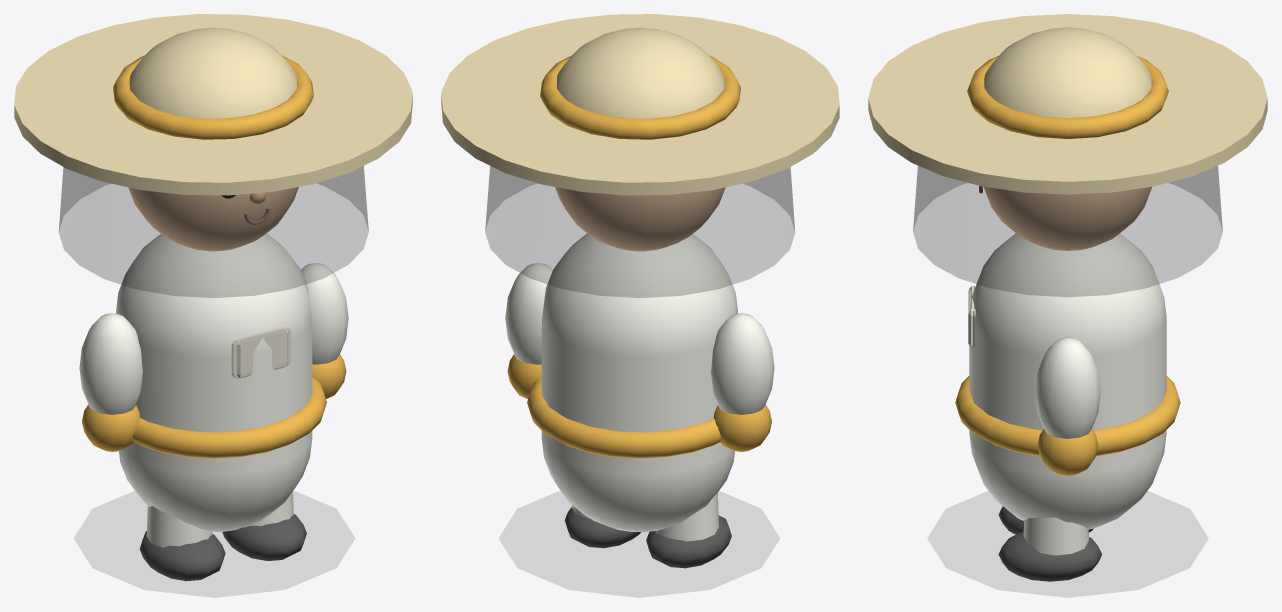
The model's file is husband.glb.
The picture shows the model from 3 angles, left to right: view 1: azimuth 30°, elevation 25°; view 2: azimuth 150°, elevation 25°; view 3: azimuth 270°, elevation 25°; orthographic projection.
Size of the model in its own units: 1.7 by 2.44 by 1.7.
